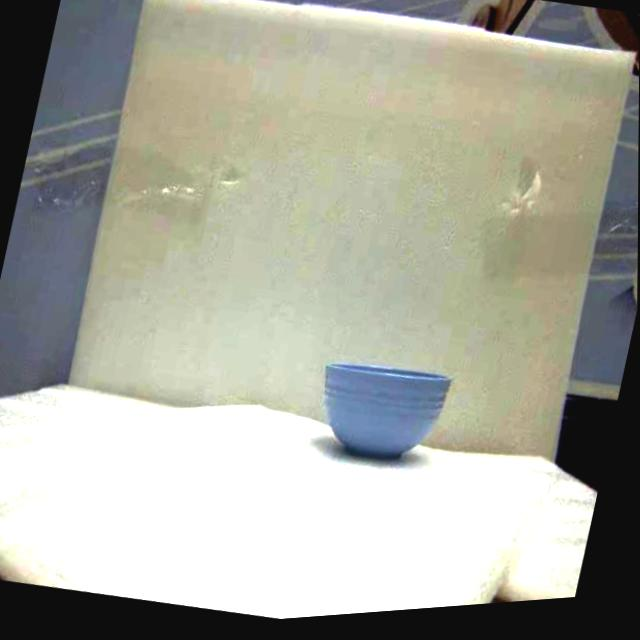Bowl: (324, 364, 450, 458)
